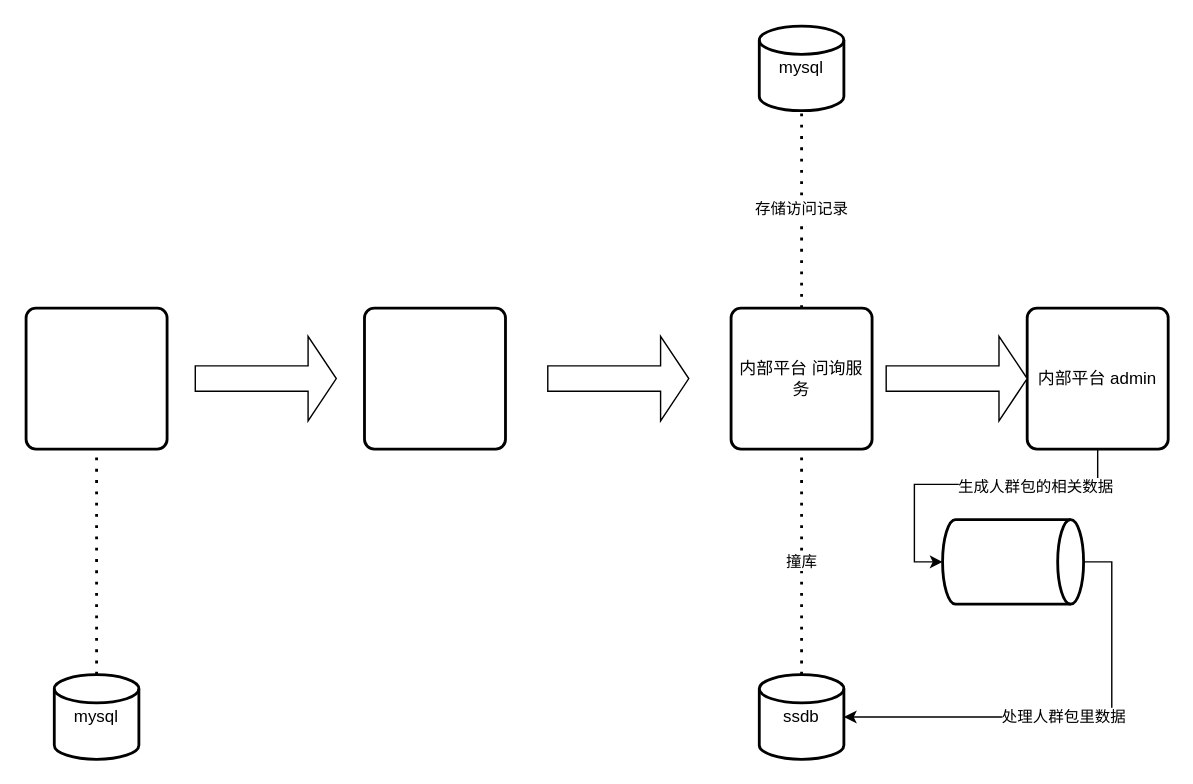
This 1193x784 diagram has some shape labels left out. The box of each missing label's shape, as (x1, y1, x2, y2) in pixels:
松果/瑞狮 admin: (24, 306, 168, 450)
松果/瑞狮 clue-stream: (362, 306, 506, 450)
